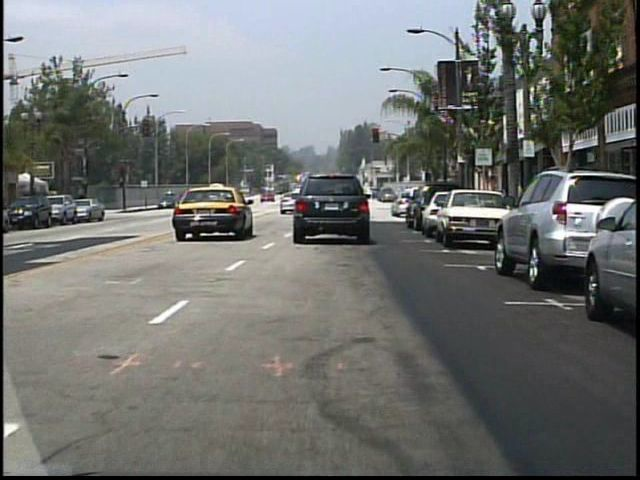person: (190, 188, 205, 213), (348, 188, 363, 213)
